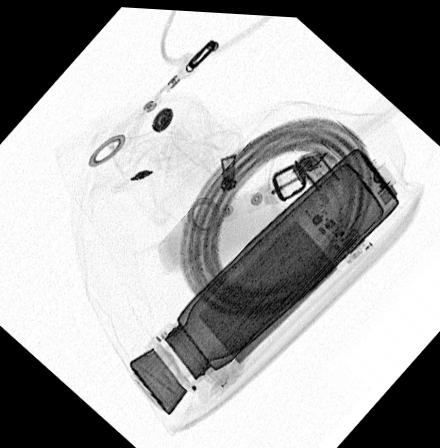Powerbank: (151, 172, 373, 388)
